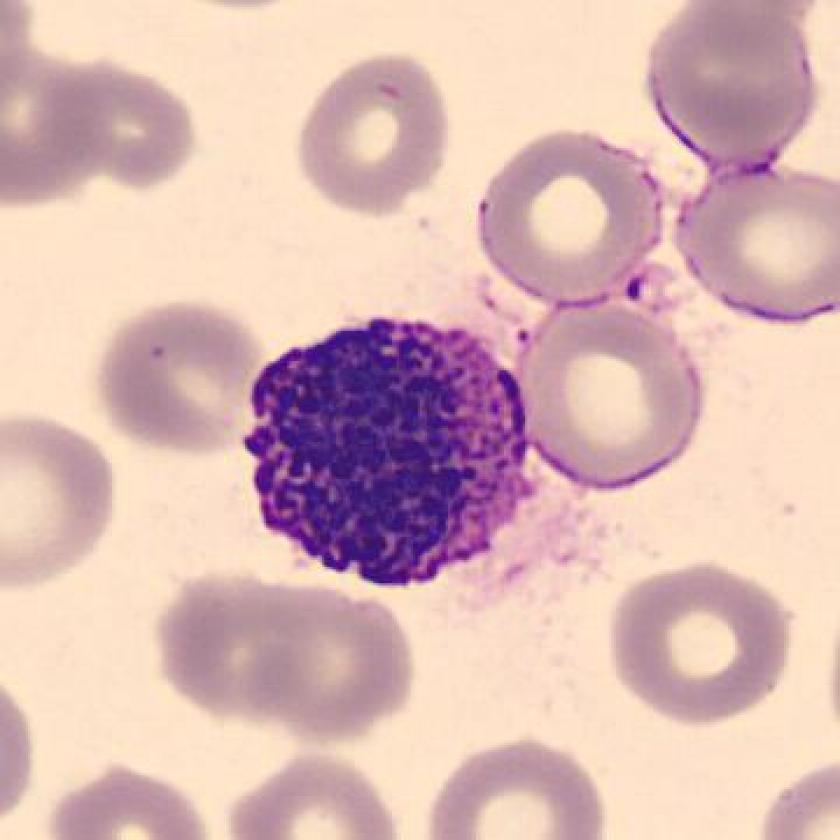basophil: (237, 311, 540, 575)
